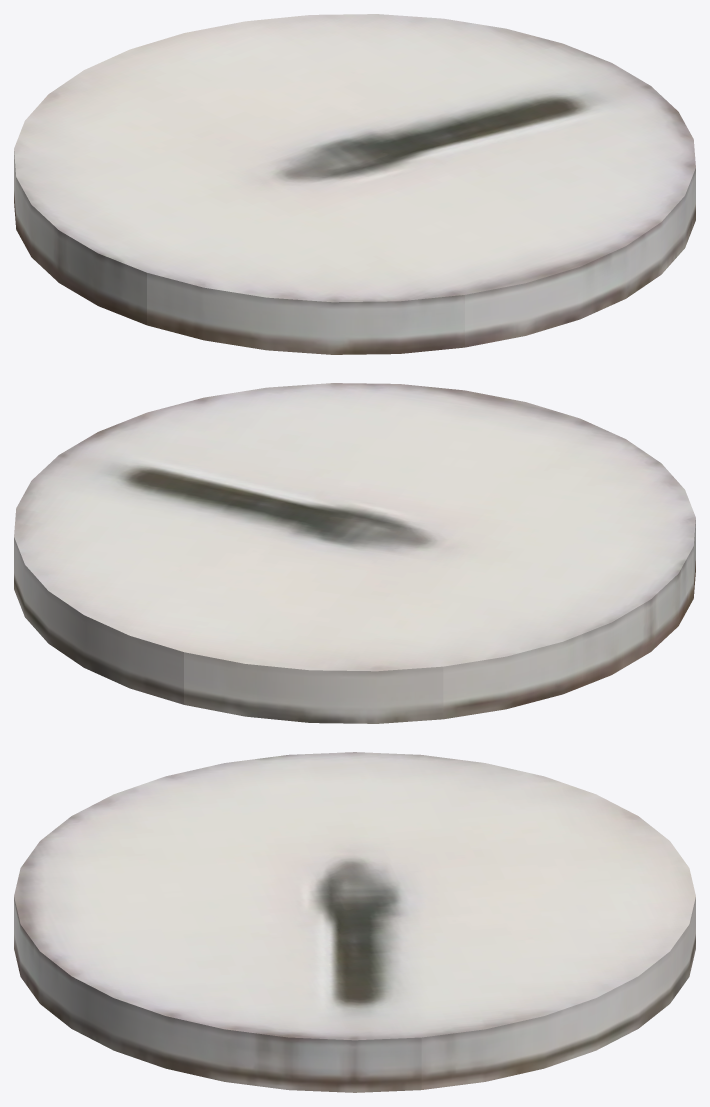
File: base_frame__gauge_face.glb
The picture shows the model from 3 angles, top to bottom: view 1: azimuth 30°, elevation 25°; view 2: azimuth 150°, elevation 25°; view 3: azimuth 270°, elevation 25°; orthographic projection.
Parts seen in each view (by area): view 1: geometry_0; view 2: geometry_0; view 3: geometry_0.
Boxes of the visible parts, x1,y1,x2,y2 form: geometry_0: [14, 14, 695, 354]; geometry_0: [14, 383, 695, 723]; geometry_0: [14, 752, 695, 1092].
Bounding box in the file's own units: 0.094 × 0.008 × 0.094.
Materials: 1 (1 with a texture image).
